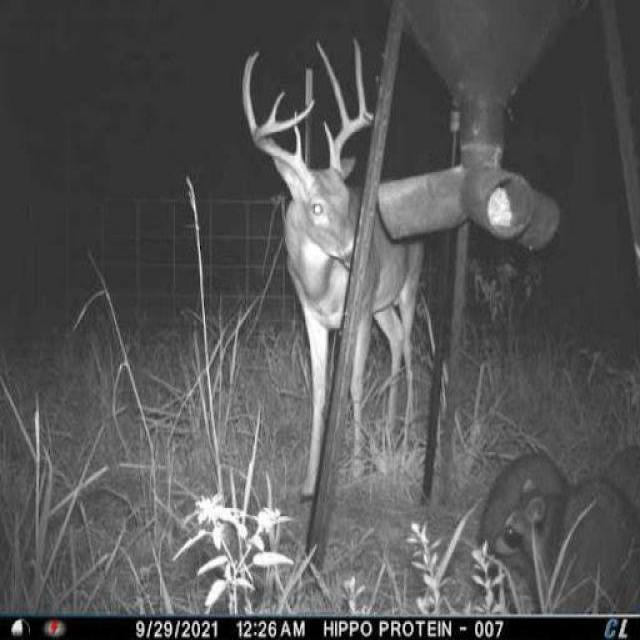deer: (237, 24, 432, 503)
